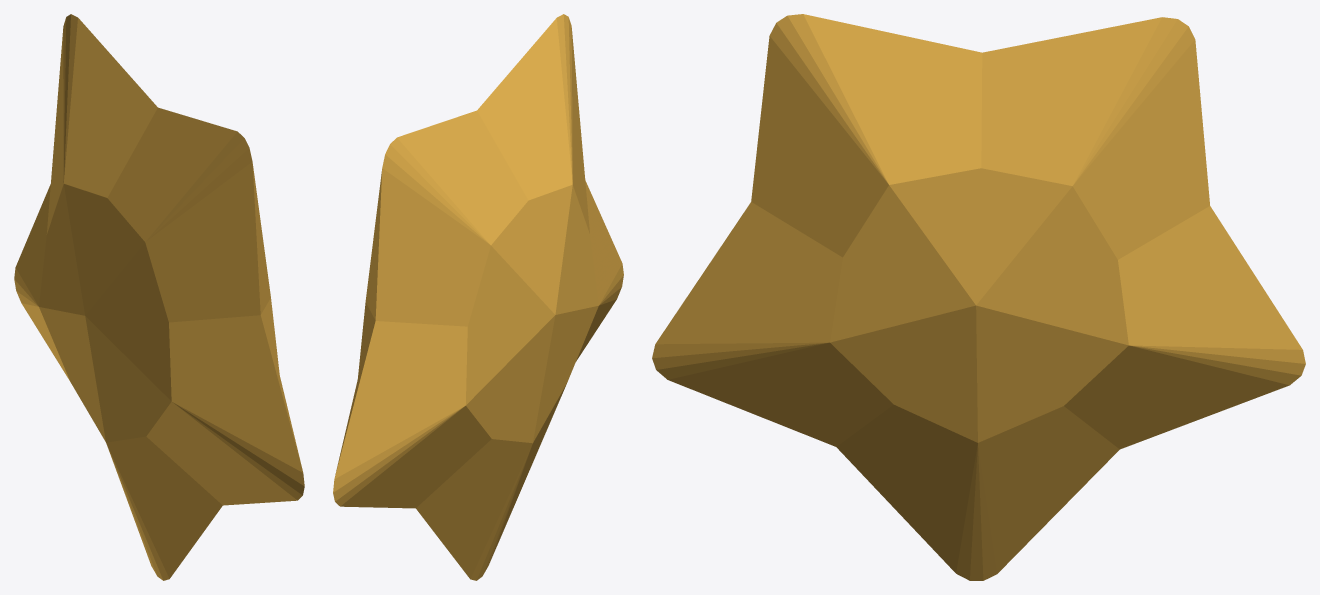
The model's file is Star4.fbx.
3 renders of one model, left to right at view 1: azimuth 30°, elevation 25°; view 2: azimuth 150°, elevation 25°; view 3: azimuth 270°, elevation 25°, orthographic. The views are drawn at different scales.
Visible parts, largest first — view 1: Cylinder; view 2: Cylinder; view 3: Cylinder.
Part boxes in pixels (x1=…): Cylinder: x1=14, y1=14, x2=304, y2=580; Cylinder: x1=333, y1=14, x2=623, y2=580; Cylinder: x1=652, y1=14, x2=1305, y2=580.
Bounding box in the file's own units: 223 × 711 × 743.
